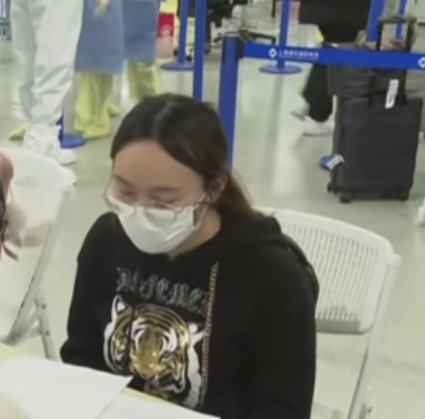face_with_mask: (104, 94, 226, 256)
